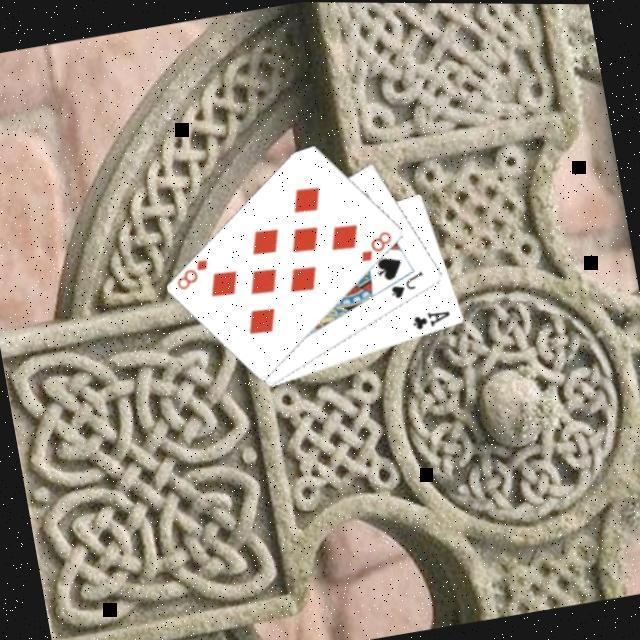8D: (355, 227, 400, 266), (172, 255, 217, 294)
AC: (410, 305, 457, 334)
JS: (387, 266, 432, 302)
